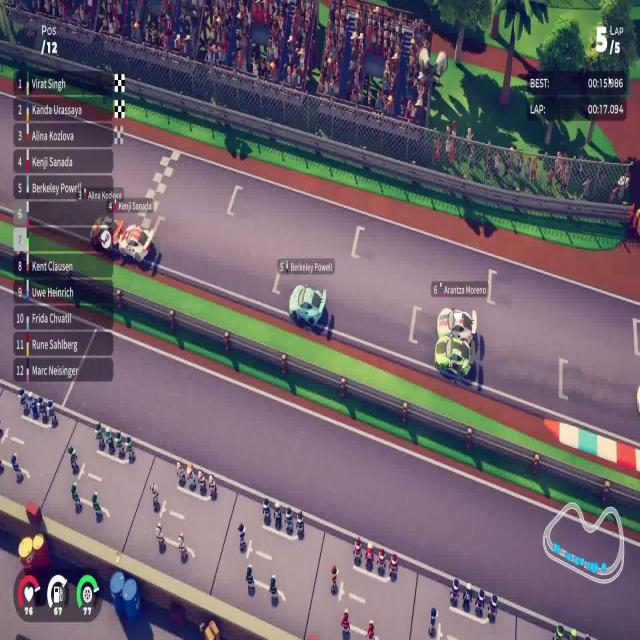car: (288, 283, 327, 327), (435, 336, 474, 377), (118, 223, 156, 265), (438, 306, 477, 346)
